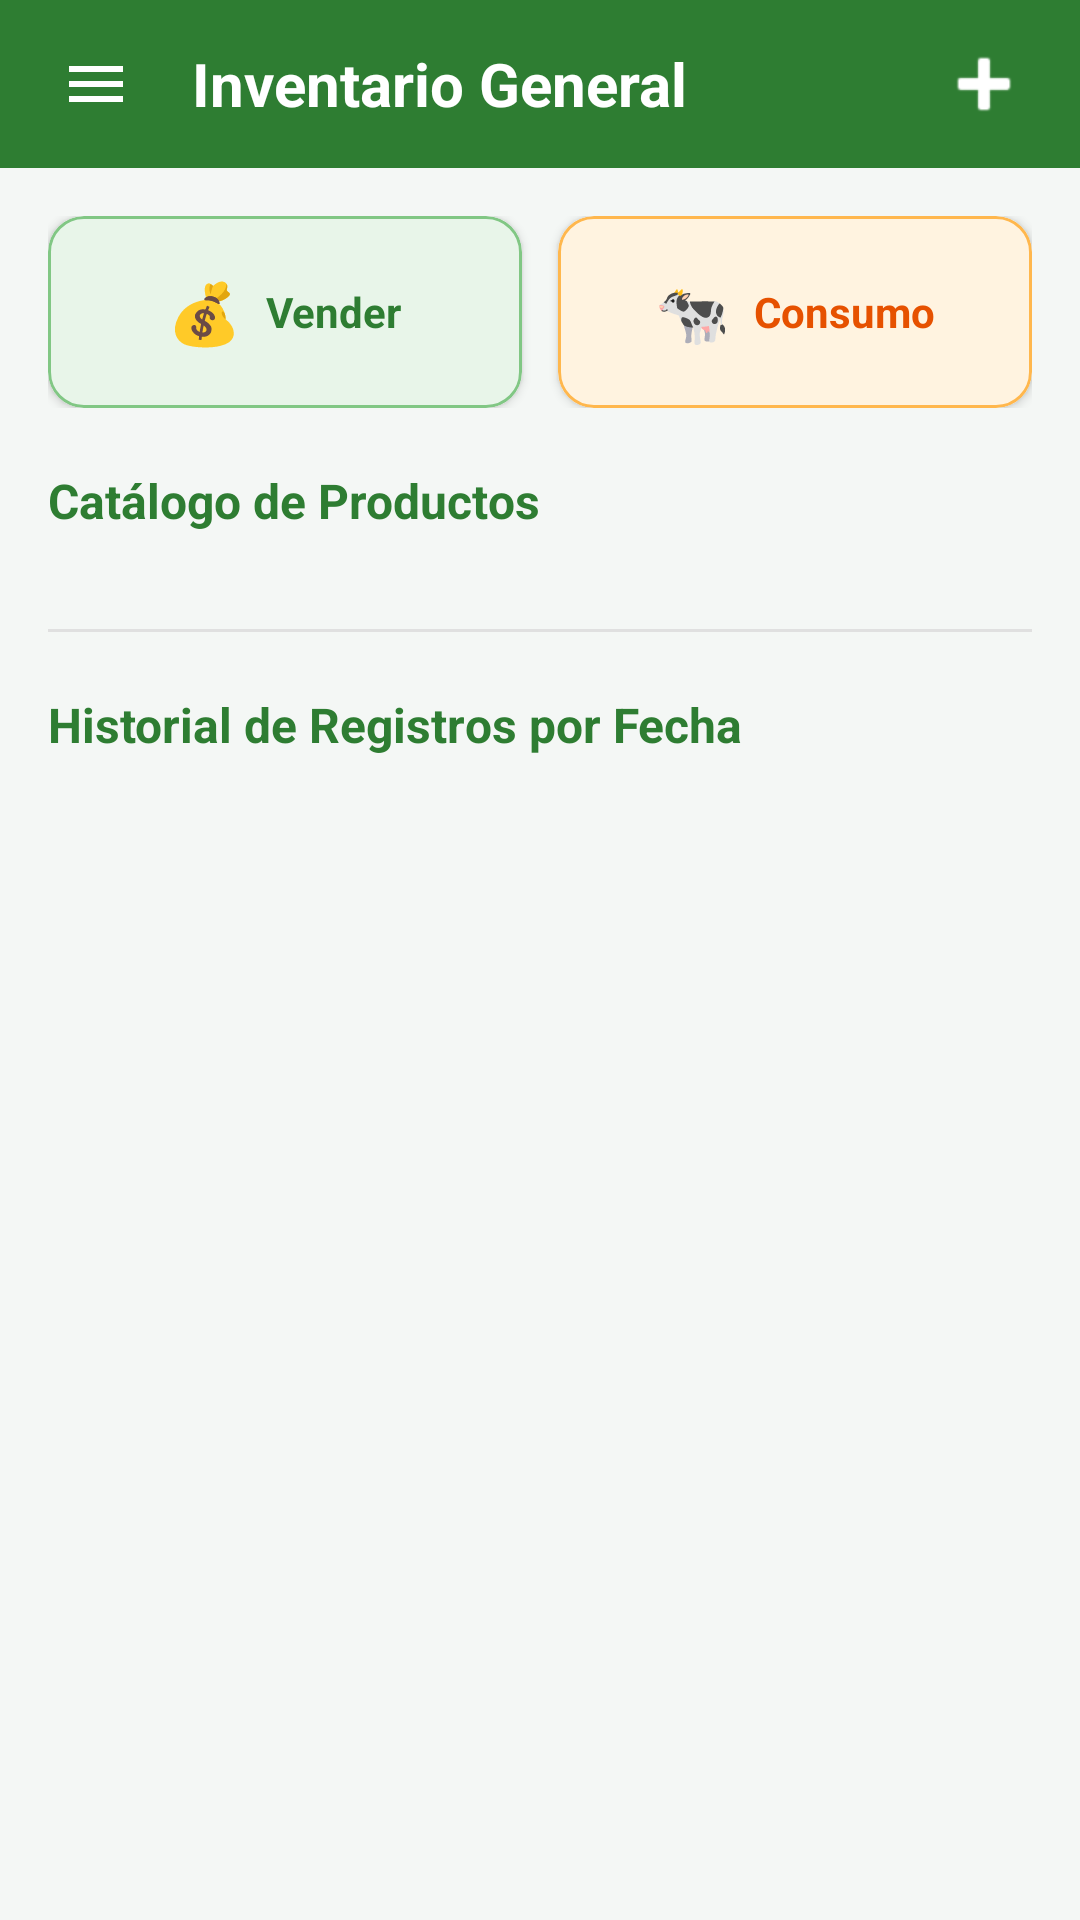

Icons on this 1080 x 1920 Android screen, each with the point to tap as point (x, y):
Agregar producto: point (984, 84)
Menú lateral: point (96, 84)
